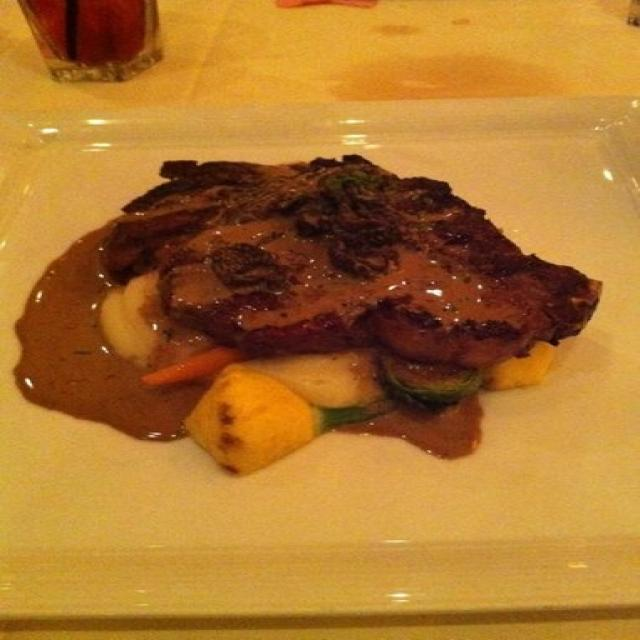Potato: (151, 334, 419, 486)
Steak: (70, 151, 614, 351)
